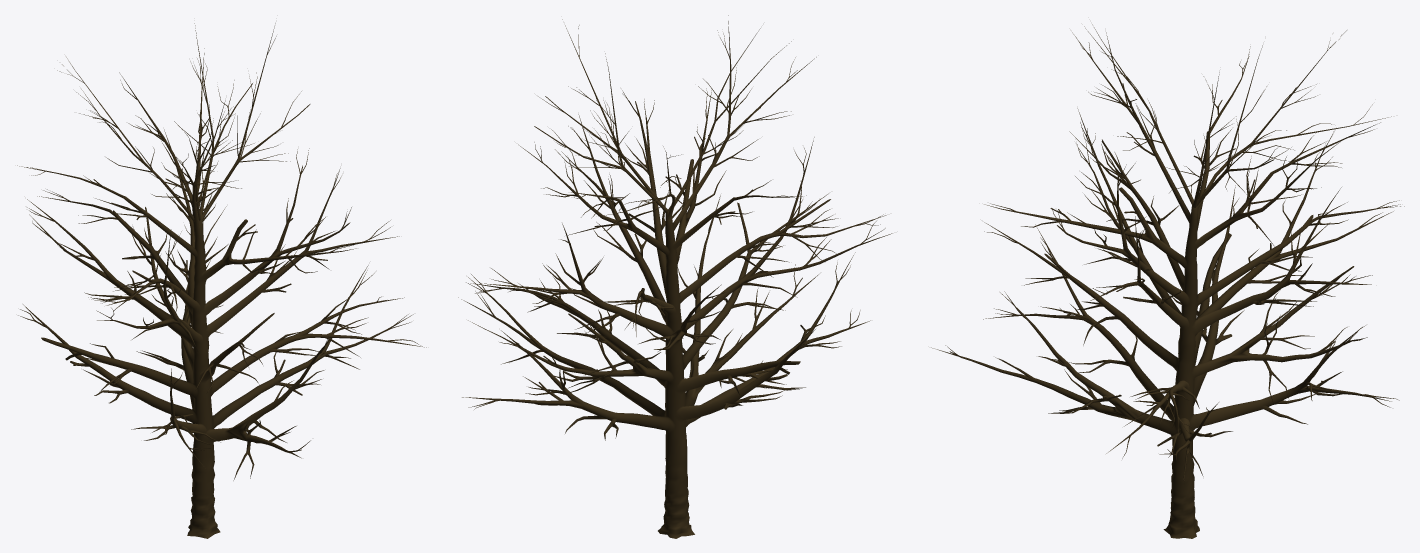
Rendered from Tree.fbx.
The picture shows the model from 3 angles, left to right: view 1: azimuth 30°, elevation 25°; view 2: azimuth 150°, elevation 25°; view 3: azimuth 270°, elevation 25°; orthographic projection. The views are drawn at different scales.
Visible parts, largest first — view 1: AlanTree; view 2: AlanTree; view 3: AlanTree.
Part boxes in pixels (bbox=[...]): AlanTree: bbox=[17, 23, 426, 538]; AlanTree: bbox=[458, 15, 892, 538]; AlanTree: bbox=[931, 24, 1404, 538].
Bounding box in the file's own units: 1844 × 2277 × 1920.
